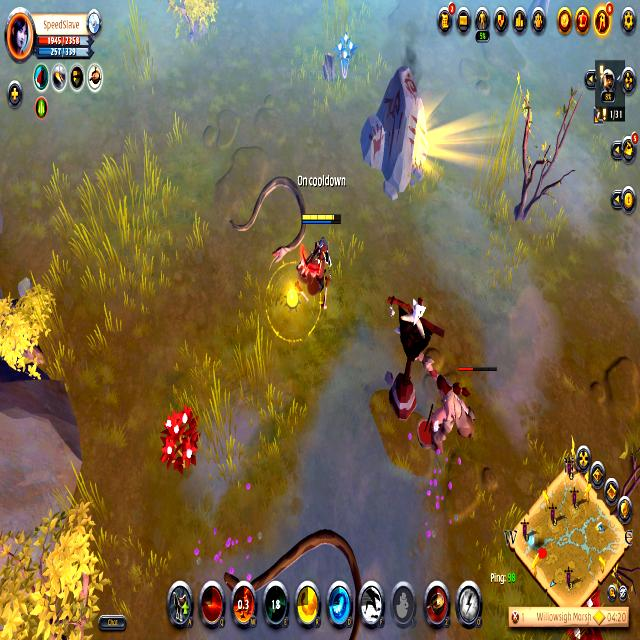hide: (158, 402, 204, 478), (560, 574, 606, 638), (332, 35, 360, 83)
ore: (221, 521, 371, 640), (420, 355, 500, 451)
red: (302, 207, 346, 296)
